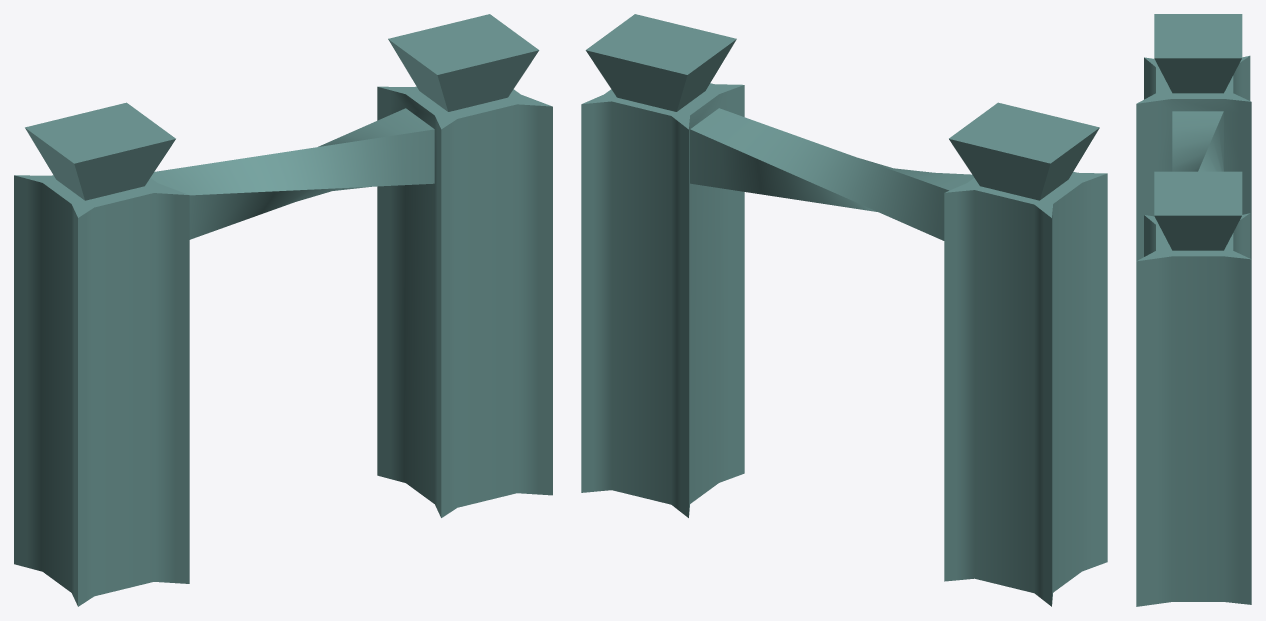
The model's file is pillarModel.fbx.
3 views of the same model, side by side, from view 1: azimuth 30°, elevation 25°; view 2: azimuth 150°, elevation 25°; view 3: azimuth 270°, elevation 25° (orthographic). The views are drawn at different scales.
Parts seen in each view (by area): view 1: pCube10; view 2: pCube10; view 3: pCube10.
Boxes of the visible parts, x1=… form: pCube10: x1=14, y1=14, x2=552, y2=606; pCube10: x1=581, y1=14, x2=1107, y2=606; pCube10: x1=1136, y1=14, x2=1251, y2=606.
Size of the model in its own units: 1228 by 1085 by 292.
1 material, 1 textured.
